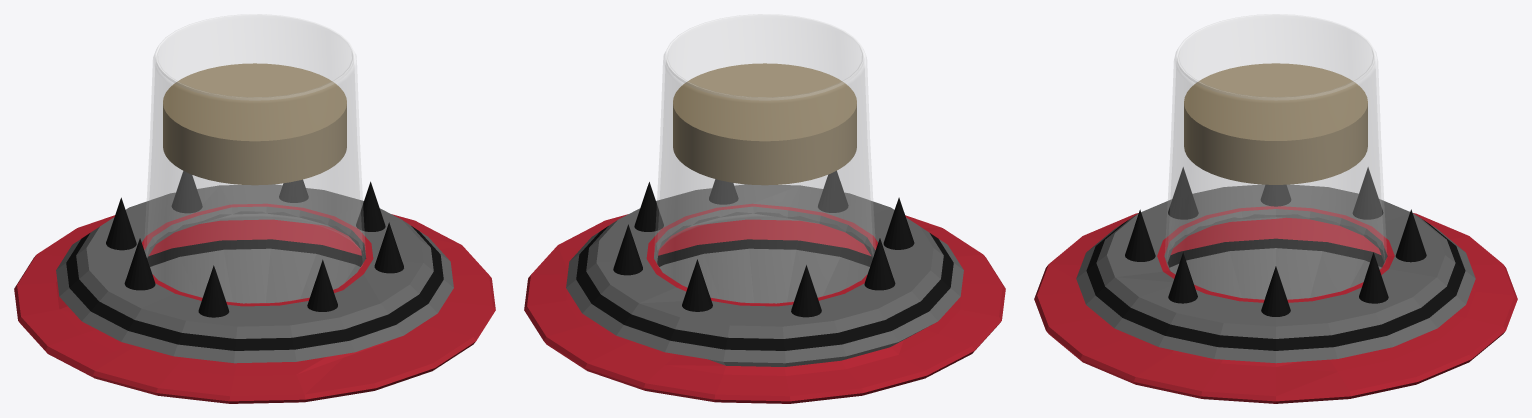
File: astra_t03.glb
3 renders of one model, left to right at view 1: azimuth 30°, elevation 25°; view 2: azimuth 150°, elevation 25°; view 3: azimuth 270°, elevation 25°, orthographic.
Parts seen in each view (by area): view 1: slot_anchor_saucer, cover_shell, cover_brown_disc, cover_top; view 2: slot_anchor_saucer, cover_shell, cover_brown_disc, cover_top; view 3: slot_anchor_saucer, cover_shell, cover_brown_disc, cover_top.
Boxes of the visible parts, x1,y1,x2,y2 form: slot_anchor_saucer: (14, 171, 495, 403); cover_shell: (144, 14, 365, 303); cover_brown_disc: (163, 63, 346, 185); cover_top: (156, 14, 353, 99); slot_anchor_saucer: (524, 171, 1005, 403); cover_shell: (654, 14, 875, 303); cover_brown_disc: (673, 63, 856, 185); cover_top: (666, 14, 863, 99); slot_anchor_saucer: (1034, 167, 1517, 403); cover_shell: (1165, 14, 1386, 299); cover_brown_disc: (1184, 63, 1367, 184); cover_top: (1177, 14, 1374, 99).
Size of the model in its own units: 2 by 1.45 by 2.
Materials: 4 (1 with a texture image).
